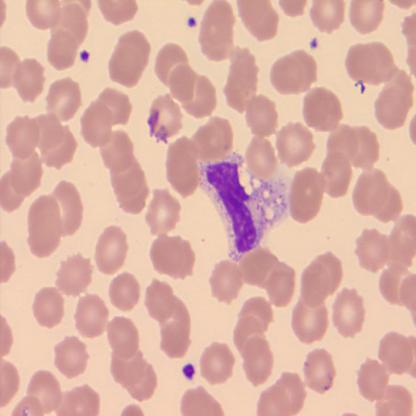Metamyelocyte: (194, 149, 290, 266)
